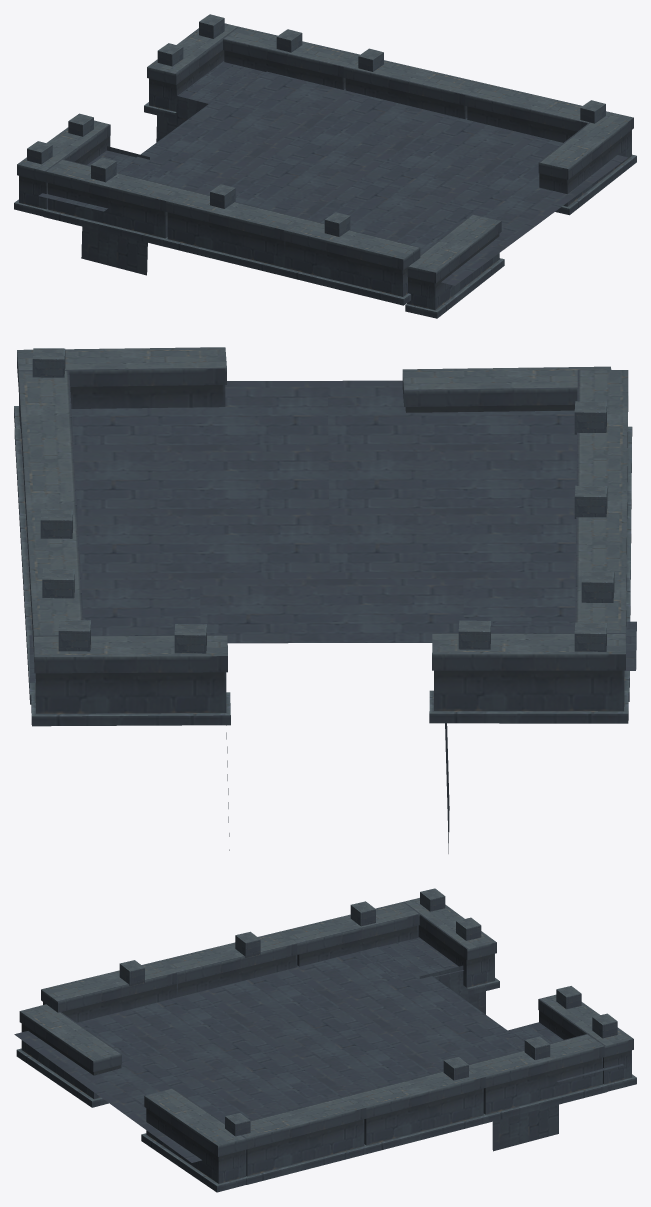
The model's file is Area_08_24.fbx.
3 views of the same model, one above another, from view 1: azimuth 30°, elevation 25°; view 2: azimuth 150°, elevation 25°; view 3: azimuth 270°, elevation 25° (orthographic). The views are drawn at different scales.
Visible parts, largest first — view 1: Area_08_24; view 2: Area_08_24; view 3: Area_08_24.
Boxes of the visible parts, bbox=[...] form: Area_08_24: bbox=[14, 14, 636, 318]; Area_08_24: bbox=[14, 347, 636, 853]; Area_08_24: bbox=[14, 888, 636, 1192].
Bounding box in the file's own units: 1802 × 514 × 1870.
